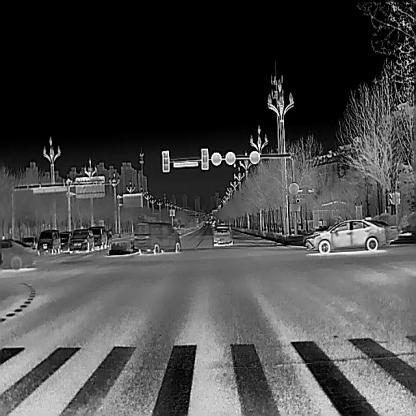car: (305, 216, 385, 253), (133, 221, 180, 253), (0, 239, 38, 269), (364, 217, 396, 244), (68, 228, 93, 255), (37, 228, 61, 254), (212, 224, 233, 248), (88, 225, 107, 249), (59, 229, 70, 252)
